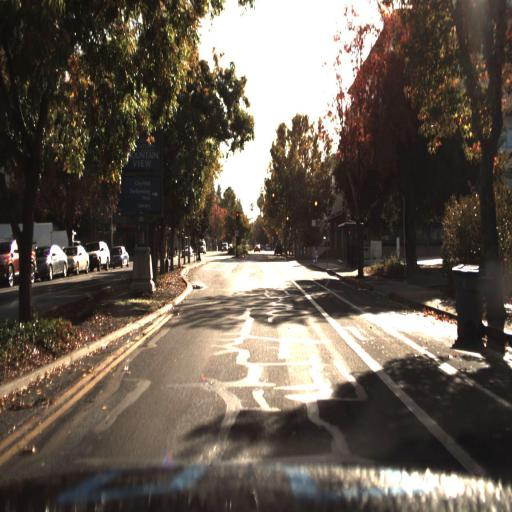car: (0, 233, 41, 287), (33, 242, 69, 282), (39, 241, 68, 279), (60, 242, 90, 276), (89, 238, 111, 272), (89, 235, 109, 268), (68, 240, 89, 271), (108, 244, 130, 269), (183, 242, 194, 259), (218, 236, 229, 251)
trafficLight: (267, 184, 276, 204)
trafficLight-Red: (312, 194, 319, 216), (284, 211, 291, 230)
trafficLight-RedLeft: (230, 207, 240, 228)
trafficLight-Yellow: (309, 195, 318, 210), (282, 212, 290, 222)
truck: (0, 218, 53, 259), (0, 213, 54, 242)
